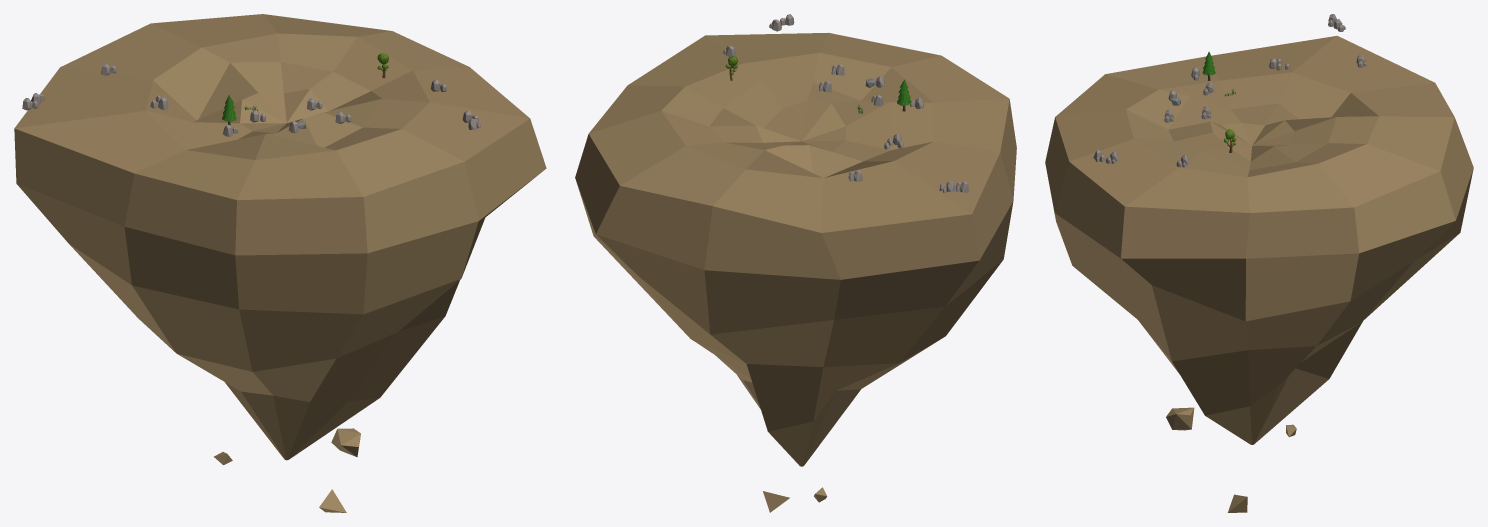
The model's file is Static_objects.glb.
3 views of the same model, side by side, from view 1: azimuth 30°, elevation 25°; view 2: azimuth 150°, elevation 25°; view 3: azimuth 270°, elevation 25° (orthographic). The views are drawn at different scales.
Parts seen in each view (by area): view 1: Static_objects; view 2: Static_objects; view 3: Static_objects.
Boxes of the visible parts, x1,y1,x2,y2 form: Static_objects: [14, 14, 546, 512]; Static_objects: [575, 14, 1016, 512]; Static_objects: [1045, 14, 1473, 512].
Bounding box in the file's own units: 10.51 × 11 × 10.41.
